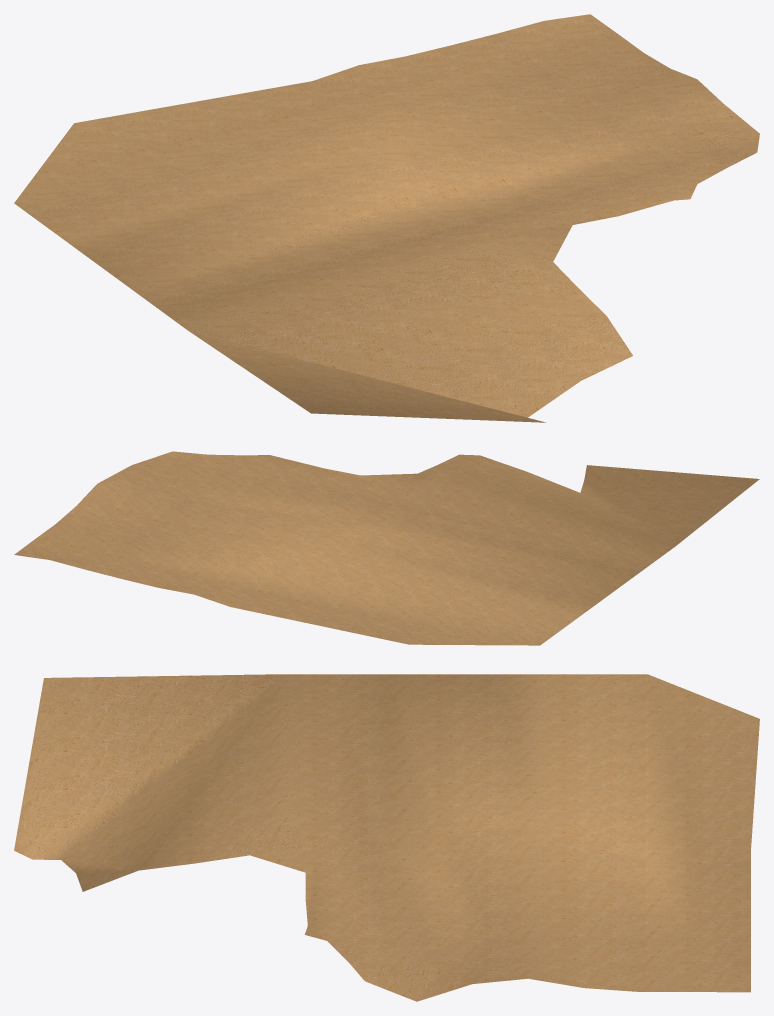
File: M01_Zone1A_XPatch01.glb
3 renders of one model, top to bottom at view 1: azimuth 30°, elevation 25°; view 2: azimuth 150°, elevation 25°; view 3: azimuth 270°, elevation 25°, orthographic. The views are drawn at different scales.
Parts seen in each view (by area): view 1: M01_ZONE1A_XPATCH01; view 2: M01_ZONE1A_XPATCH01; view 3: M01_ZONE1A_XPATCH01.
Boxes of the visible parts, bbox=[...] form: M01_ZONE1A_XPATCH01: bbox=[14, 14, 759, 422]; M01_ZONE1A_XPATCH01: bbox=[14, 451, 759, 645]; M01_ZONE1A_XPATCH01: bbox=[14, 674, 759, 1001].
Bounding box in the file's own units: 54.9 × 6.71 × 53.58.
1 material, 1 textured.
